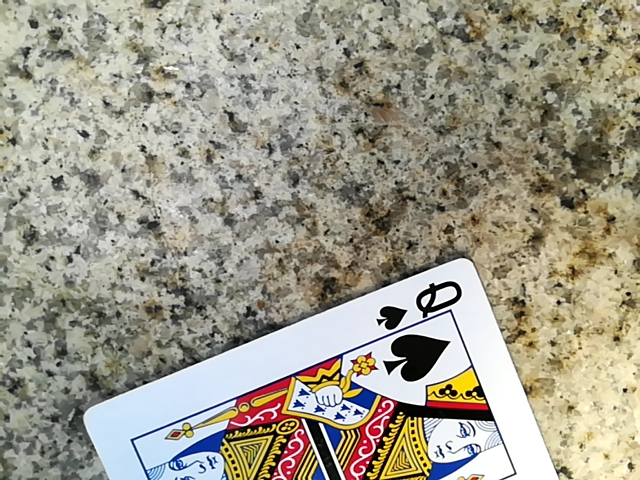ht q: (72, 259, 572, 477)
